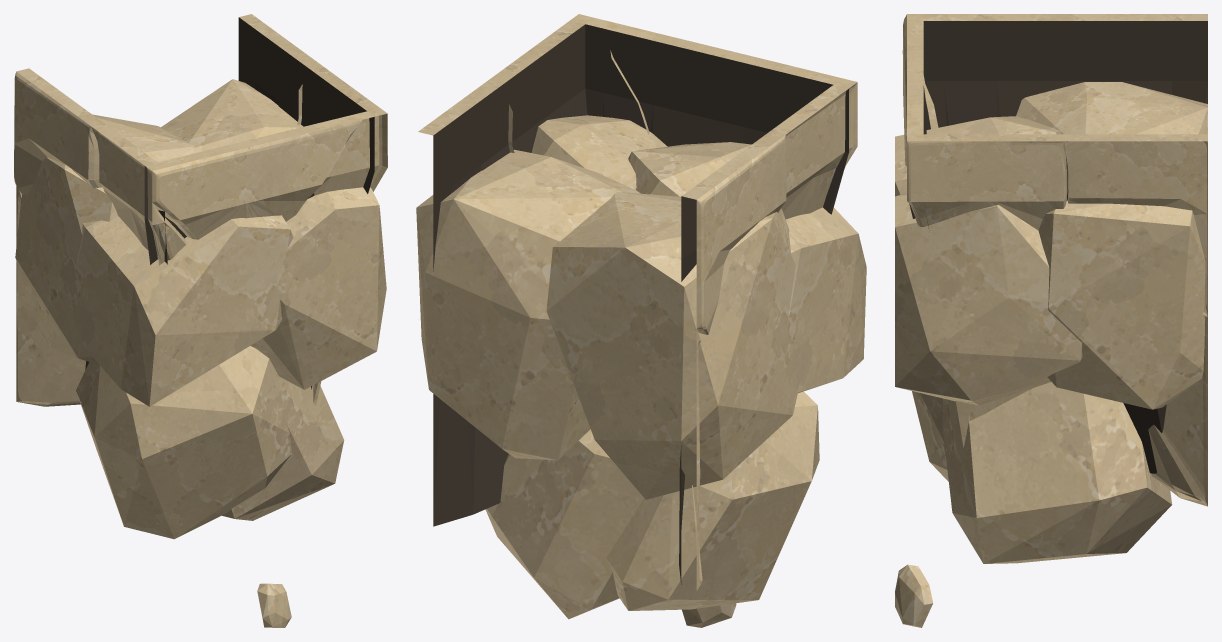
The model's file is ground_bottom_square_end_01.glb.
The picture shows the model from 3 angles, left to right: view 1: azimuth 30°, elevation 25°; view 2: azimuth 150°, elevation 25°; view 3: azimuth 270°, elevation 25°; orthographic projection. The views are drawn at different scales.
Parts seen in each view (by area): view 1: GroundBottomSquareEnd01_Body; view 2: GroundBottomSquareEnd01_Body; view 3: GroundBottomSquareEnd01_Body.
Part boxes in pixels (x1,y1,x2,y2): GroundBottomSquareEnd01_Body: (14,14,387,627); GroundBottomSquareEnd01_Body: (416,14,866,627); GroundBottomSquareEnd01_Body: (895,14,1207,627).
Bounding box in the file's own units: 1.08 × 1.99 × 1.04.
Materials: 13 (12 with a texture image).
